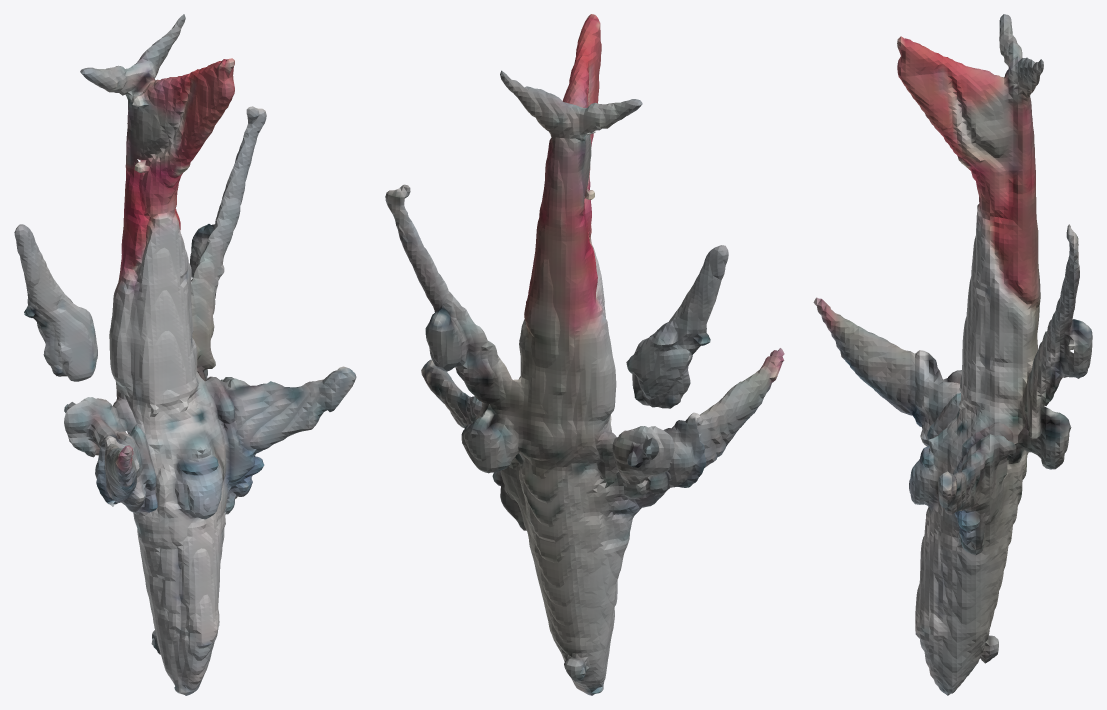
The model's file is 000008_airliner_boeing_planes.glb.
3 views of the same model, side by side, from view 1: azimuth 30°, elevation 25°; view 2: azimuth 150°, elevation 25°; view 3: azimuth 270°, elevation 25° (orthographic). The views are drawn at different scales.
Visible parts, largest first — view 1: world; view 2: world; view 3: world.
Part boxes in pixels (bbox=[...]): world: bbox=[14, 14, 356, 695]; world: bbox=[385, 14, 784, 695]; world: bbox=[813, 14, 1092, 695].
Size of the model in its own units: 0.5563 by 1.07 by 0.4073.
